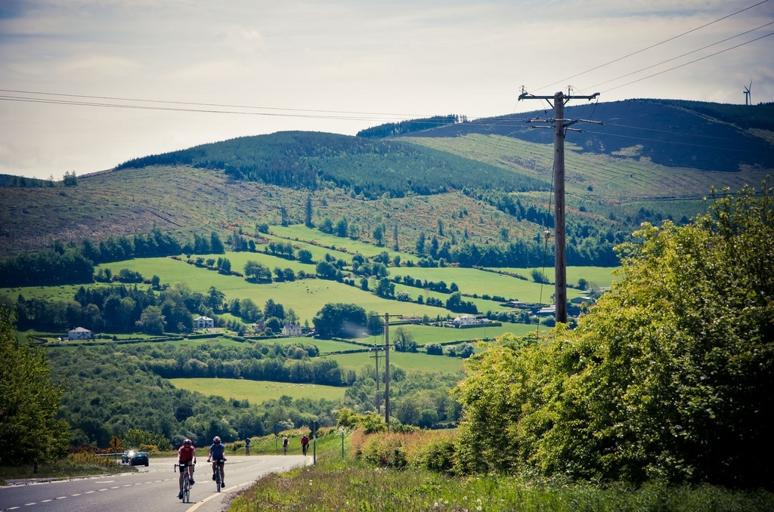non-vehicle: (172, 462, 196, 503), (208, 458, 227, 493), (242, 442, 249, 455), (282, 444, 289, 456), (302, 444, 307, 455)
